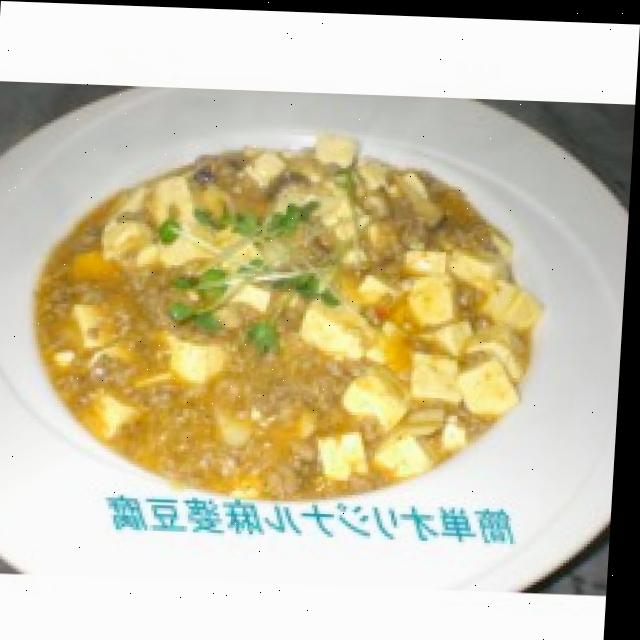豆腐料理: (0, 54, 637, 502)
